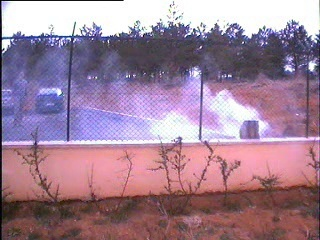smoke: (137, 72, 251, 139)
